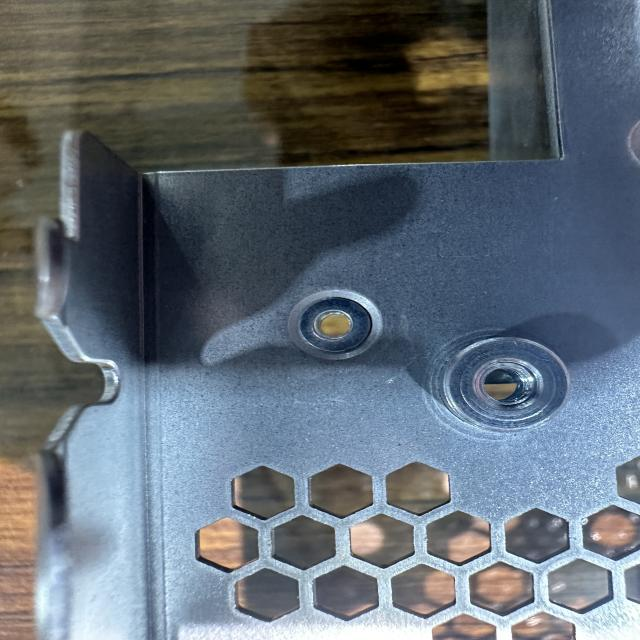Missing screw: (278, 283, 394, 362)
